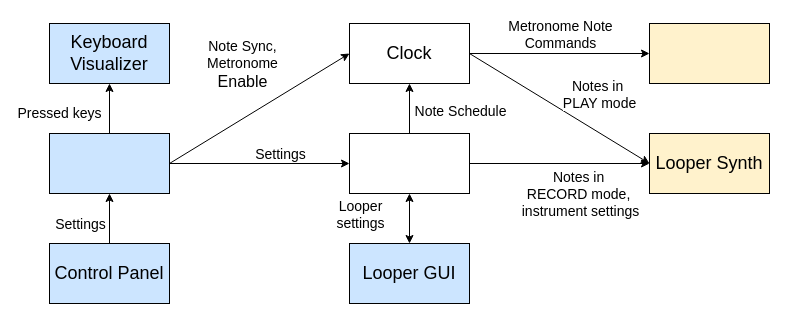
The diagram is 787 pixels wide and 321 high, and some of its shapes have lost their labels. Here are the shapes that lost their labels. From the top down, the centre of each, then its label:
At point 709,53: "Metronome Synth".
At point 109,163: "Main Window".
At point 409,163: "Looper".
